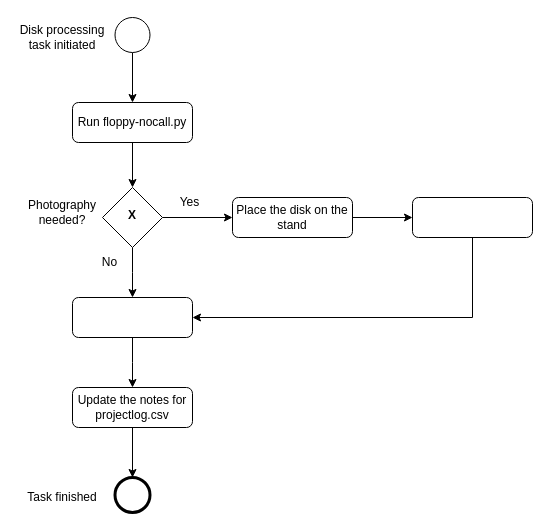
Some shapes in this 550 by 531 pixel diagram are drawn without their labels. Here are the shapes that lost their labels. From the top down, the box of each, then its label:
(412, 196, 532, 238): Photograph the disk
(72, 296, 192, 338): Insert the disk to Kyroflux
